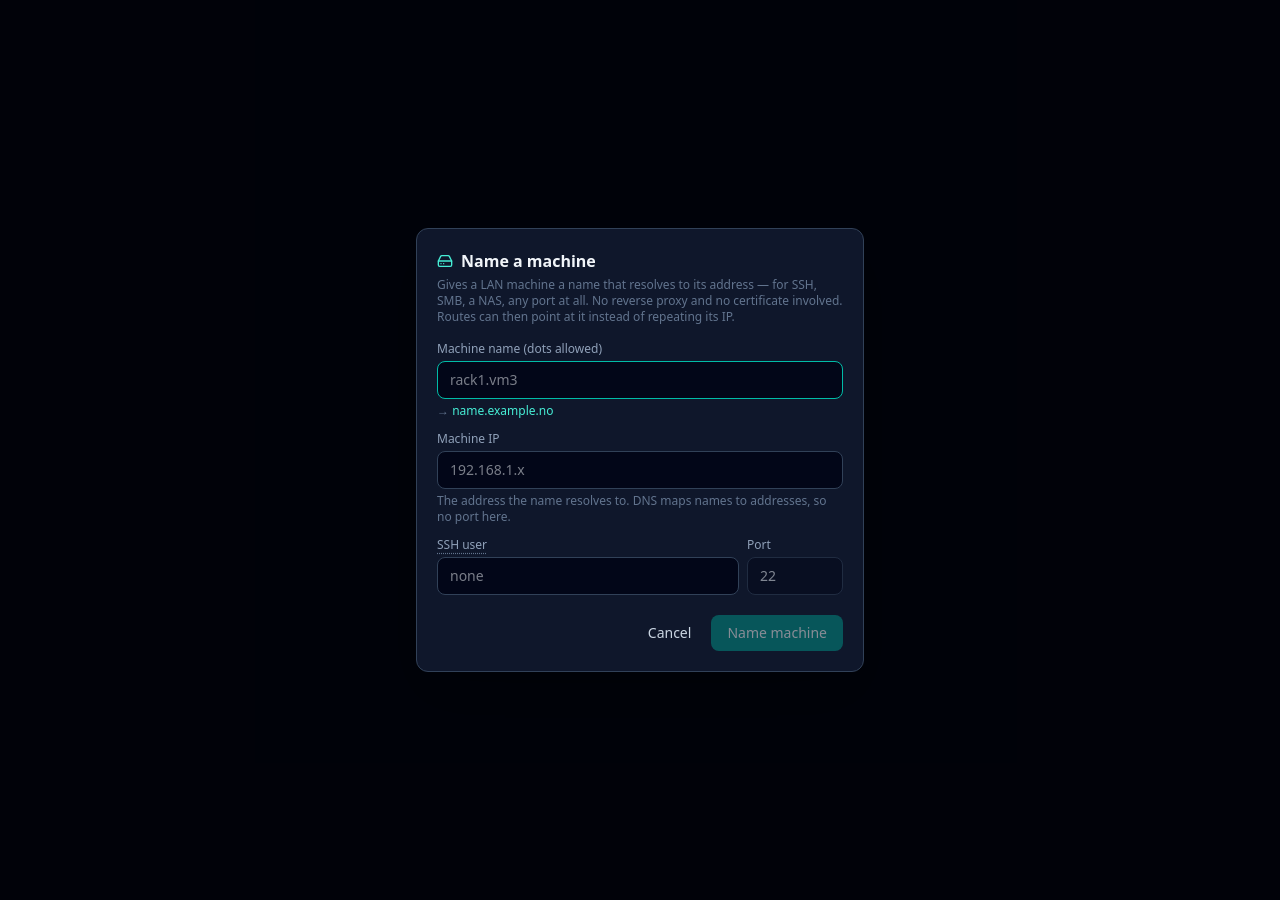
Test: a bad SSH user or port keeps the form from saving
In the field with placeholder "rack1.vm3": (640, 380) [437,361,843,399], type "nas"
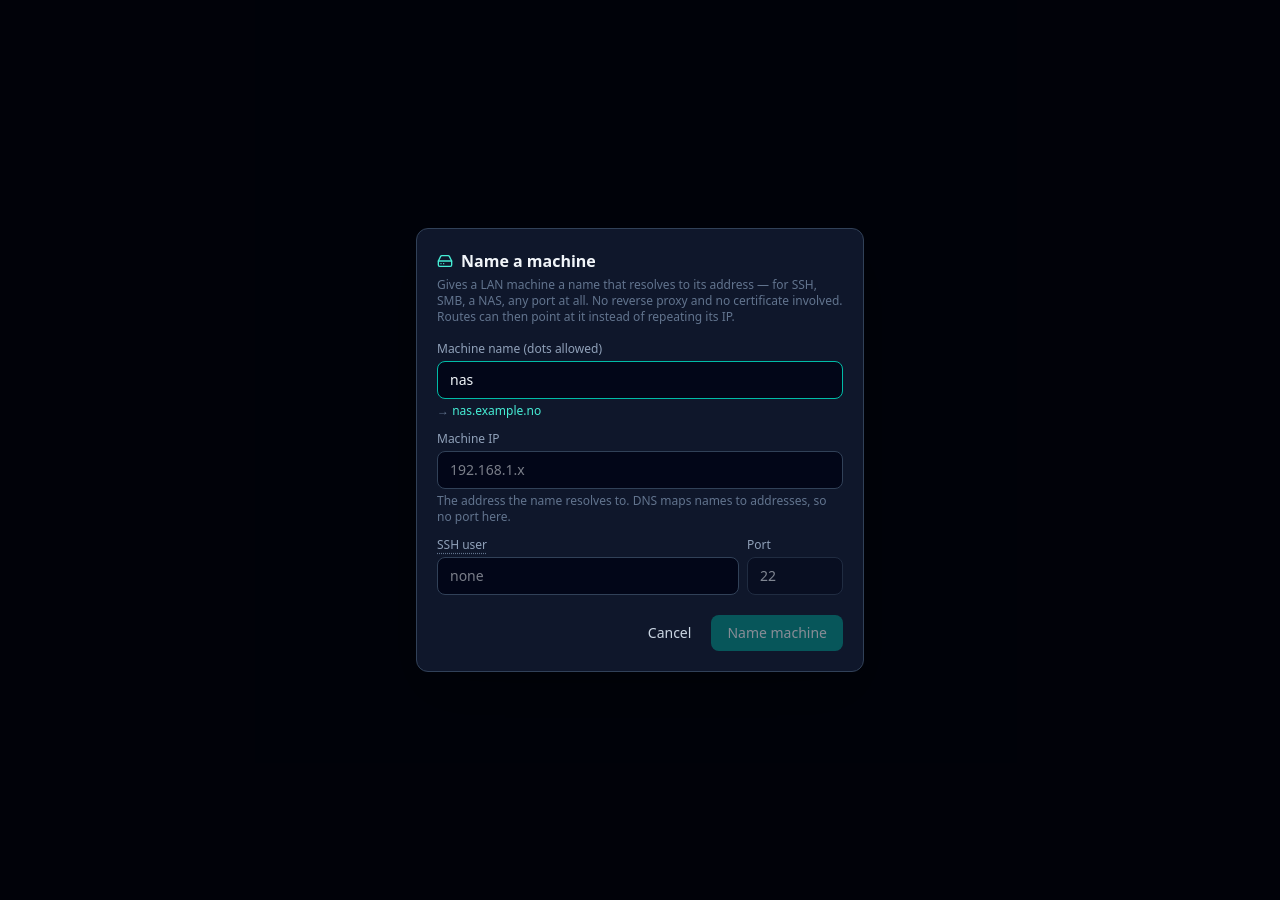
In the field with placeholder "192.168.1.x": (640, 470) [437,451,843,489], type "192.168.10.50"
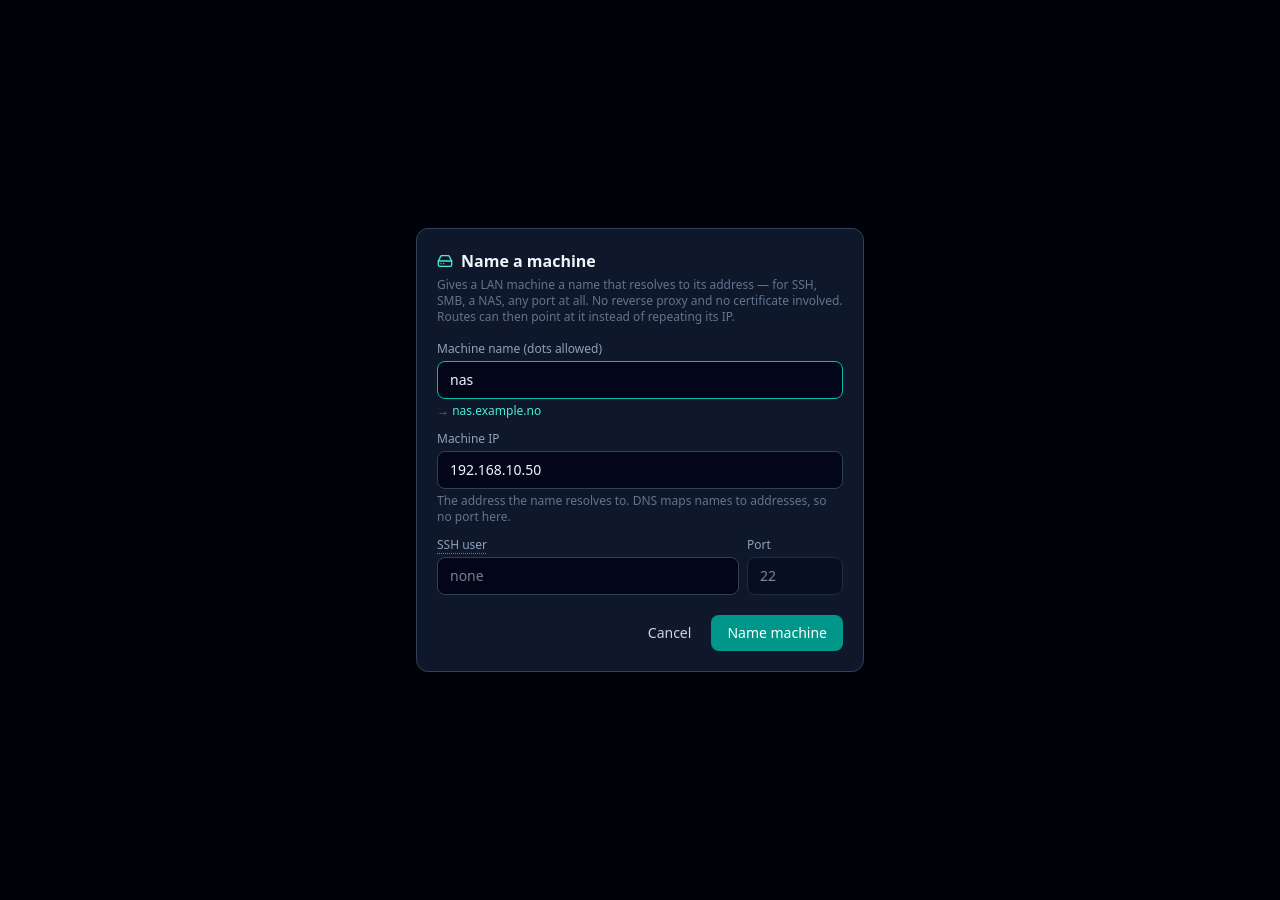
In the field named "SSH user": (588, 576) [437,557,739,595], type "-root"
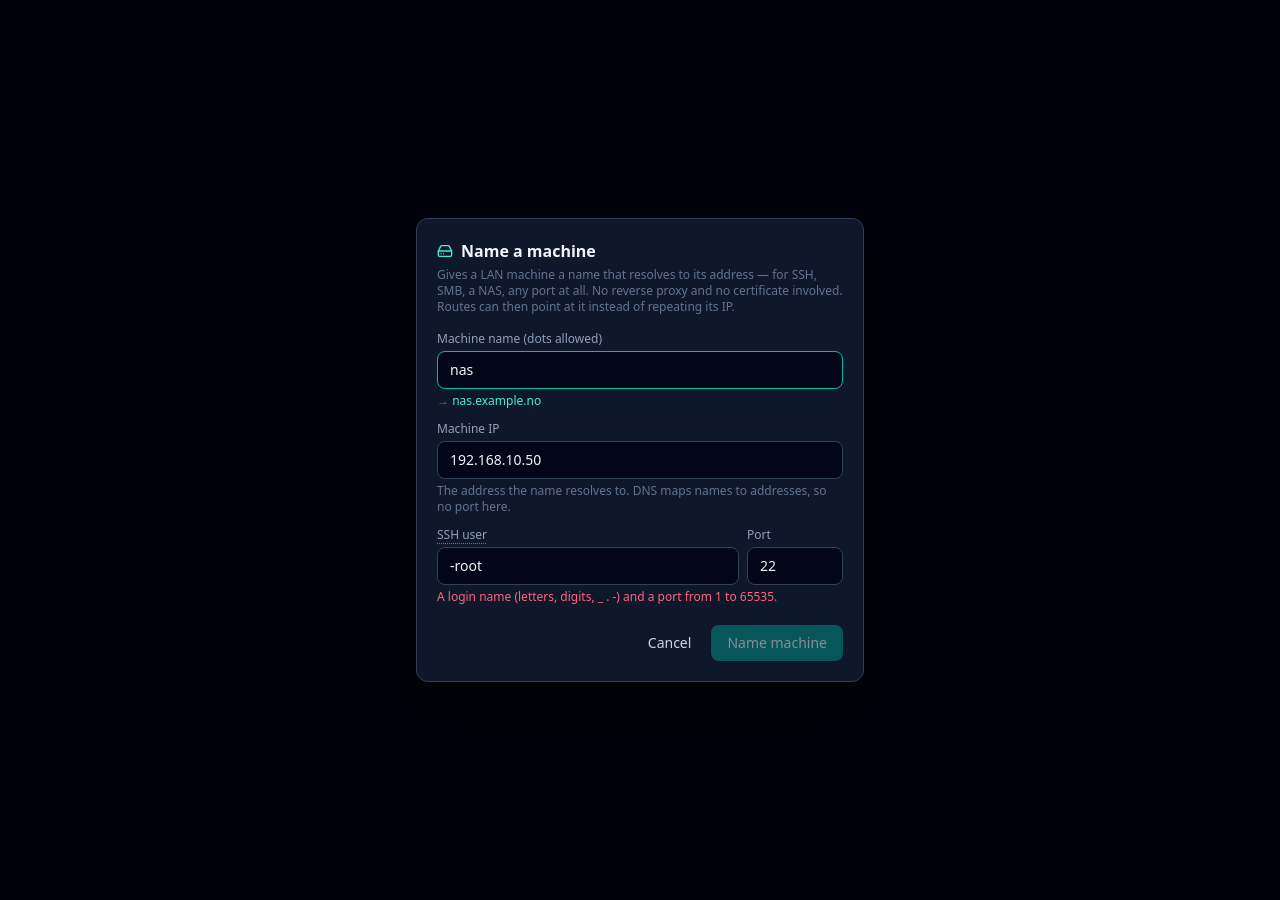
Now the button "Name machine" is disabled, box [711,625,843,661]
